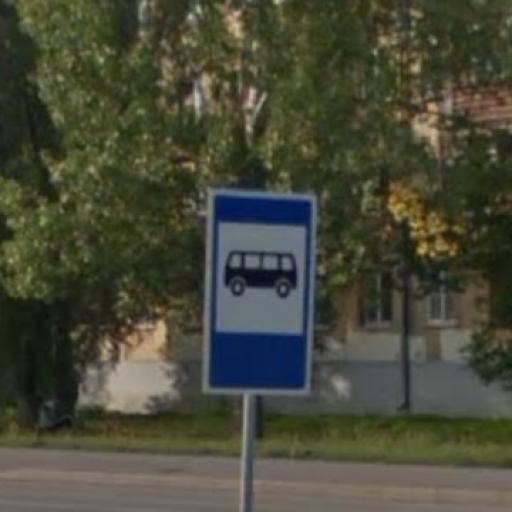traffic_sign: (205, 189, 319, 396)
